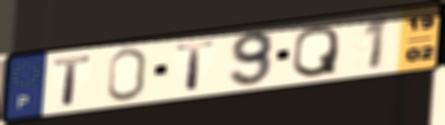0: (106, 45, 149, 104)
1: (358, 15, 391, 73)
9: (226, 29, 276, 89)
Q: (289, 23, 342, 79)
T: (50, 53, 95, 108), (173, 38, 218, 92)
